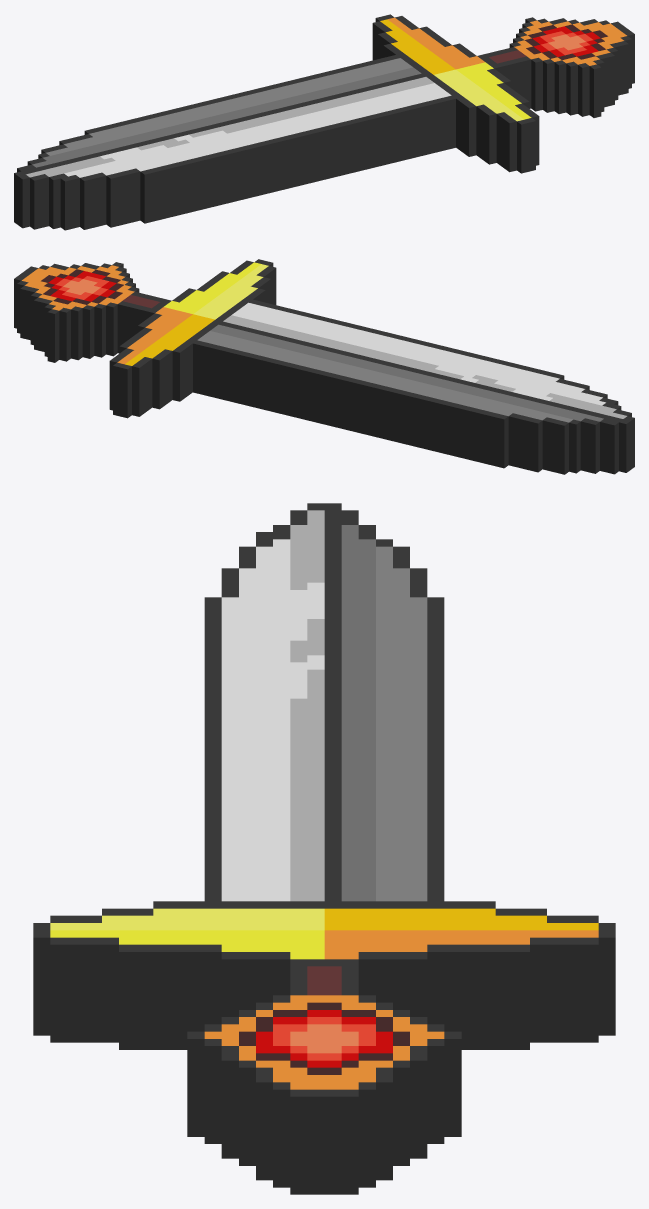
The model's file is KinfeDropper.fbx.
3 renders of one model, top to bottom at view 1: azimuth 30°, elevation 25°; view 2: azimuth 150°, elevation 25°; view 3: azimuth 270°, elevation 25°, orthographic. The views are drawn at different scales.
Parts seen in each view (by area): view 1: Sword; view 2: Sword; view 3: Sword.
Part boxes in pixels (x1,y1,x2,y2): Sword: (14, 14, 634, 230); Sword: (14, 259, 634, 474); Sword: (33, 503, 615, 1194).
Bounding box in the file's own units: 73.39 × 5.65 × 30.43.
1 material, 1 textured.
